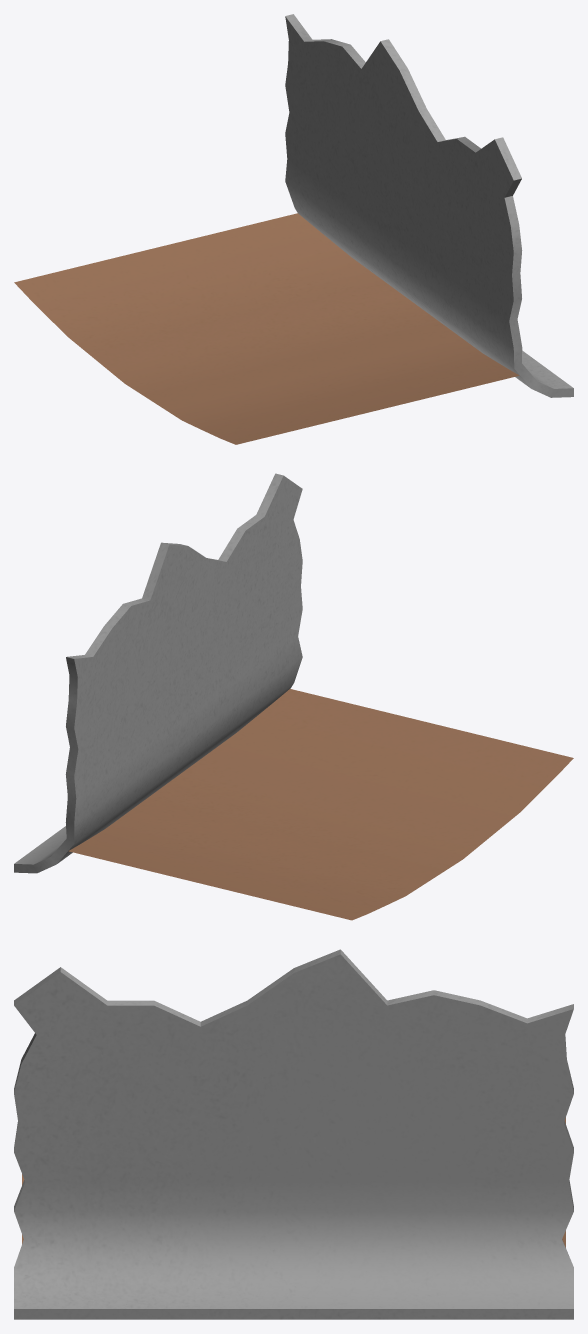
Rendered from Peeling Metal Wall level 1.fbx.
3 renders of one model, top to bottom at view 1: azimuth 30°, elevation 25°; view 2: azimuth 150°, elevation 25°; view 3: azimuth 270°, elevation 25°, orthographic. The views are drawn at different scales.
Visible parts, largest first — view 1: PeelStain(PNG), PeelingMetalPart; view 2: PeelStain(PNG), PeelingMetalPart; view 3: PeelingMetalPart.
Part boxes in pixels (x1,y1,x2,y2): PeelStain(PNG): (14,213,519,444); PeelingMetalPart: (285,14,573,397); PeelStain(PNG): (68,689,573,920); PeelingMetalPart: (14,473,302,873); PeelingMetalPart: (14,949,573,1319).
Bounding box in the file's own units: 7.61 × 5.93 × 9.
2 materials, 2 textured.
